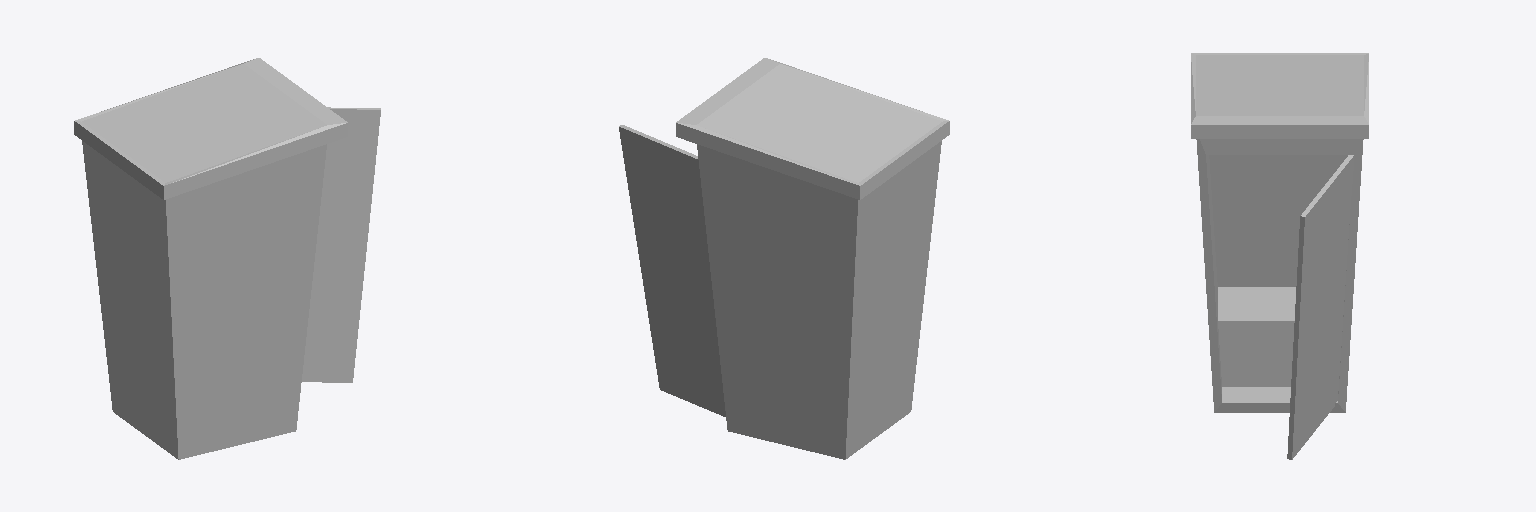
Rendered from toilet2.obj.
3 views of the same model, side by side, from view 1: azimuth 30°, elevation 25°; view 2: azimuth 150°, elevation 25°; view 3: azimuth 270°, elevation 25° (orthographic).
Parts seen in each view (by area): view 1: pCube611; view 2: pCube611; view 3: pCube611.
Part boxes in pixels (x1,y1,x2,y2): pCube611: (74,58,380,459); pCube611: (619,58,949,459); pCube611: (1191,53,1368,459).
Size of the model in its own units: 3.08 by 3.32 by 1.74.